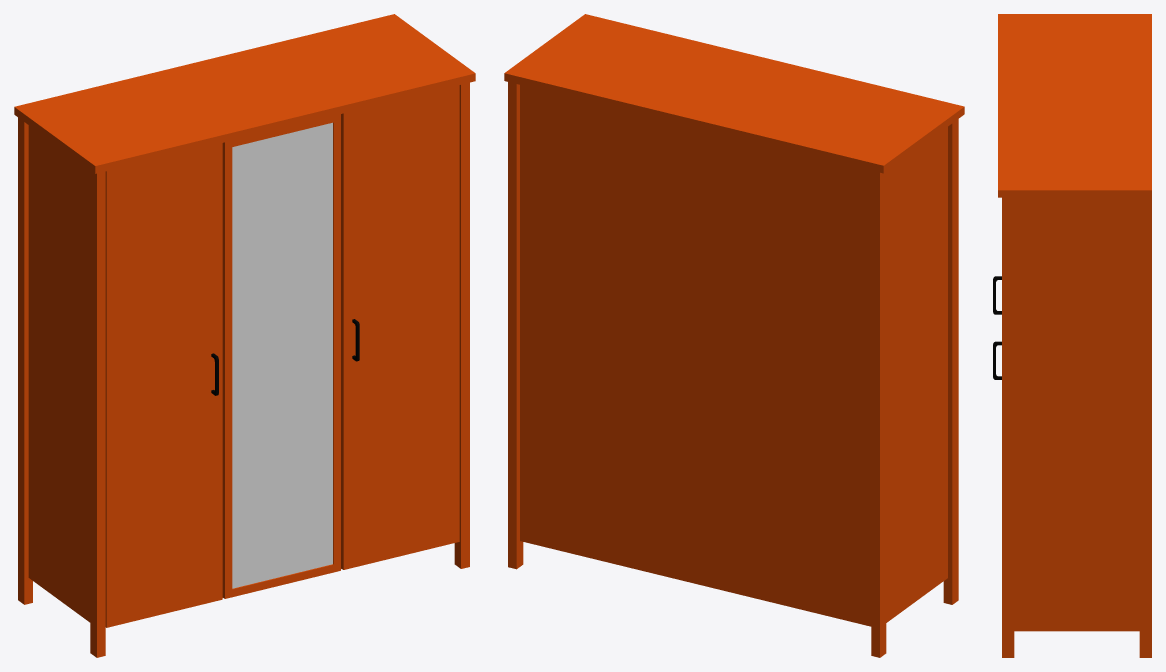
File: Wardrobe.fbx
3 views of the same model, side by side, from view 1: azimuth 30°, elevation 25°; view 2: azimuth 150°, elevation 25°; view 3: azimuth 270°, elevation 25° (orthographic). The views are drawn at different scales.
Visible parts, largest first — view 1: Cube; view 2: Cube; view 3: Cube.
Part boxes in pixels (x1,y1,x2,y2): Cube: (14,14,475,657); Cube: (504,14,964,657); Cube: (993,14,1151,657).
Bounding box in the file's own units: 153 × 190 × 58.27.
